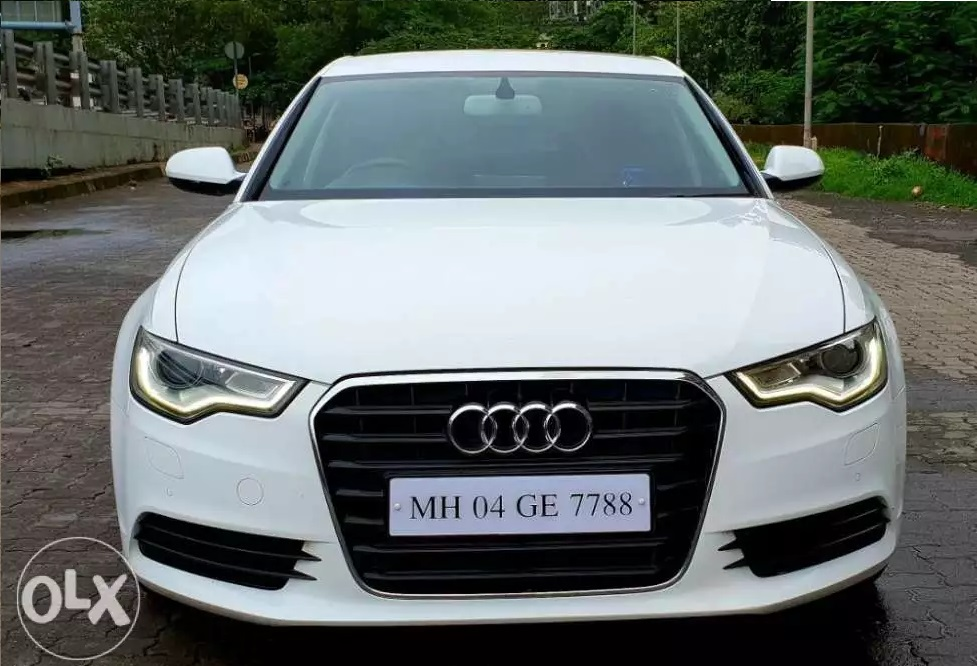licenseplate: (389, 468, 650, 538)
